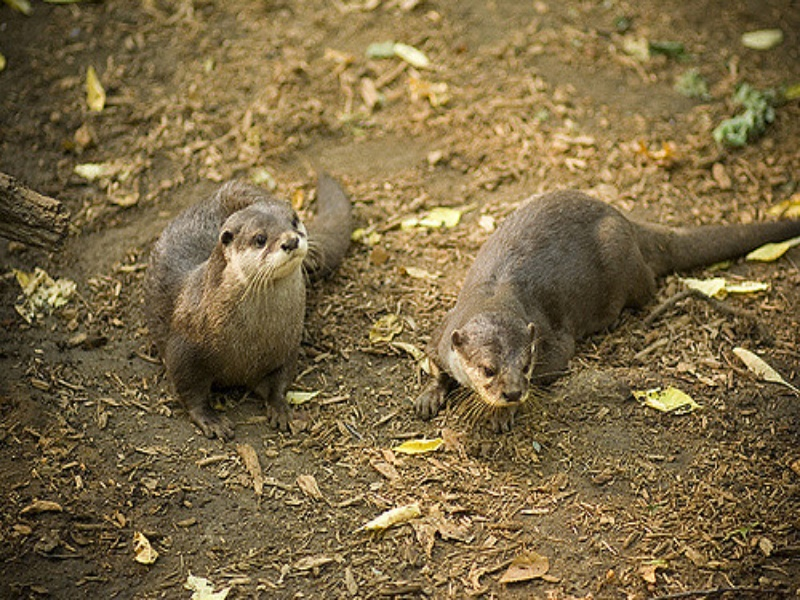minkish: (410, 189, 800, 448), (144, 159, 359, 451)
